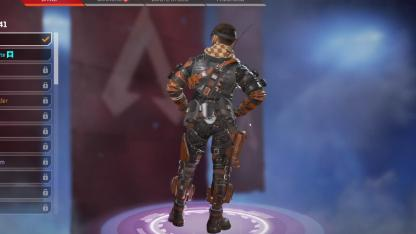Target: (167, 18, 253, 204)
